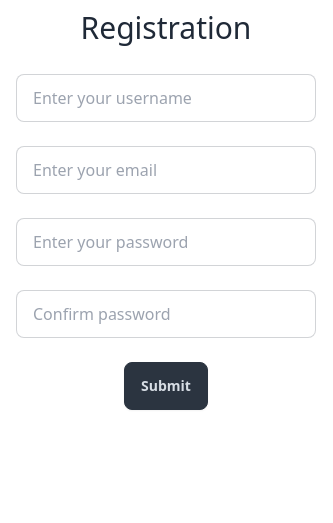
Test: Check if the input value satisfies the registration validation schema › checks if password value is invalid
The image size is (333, 523).
Step 1. Type "Test123" into the password field with placeholder "Enter your password" → (166, 242), box [16,218,316,266]
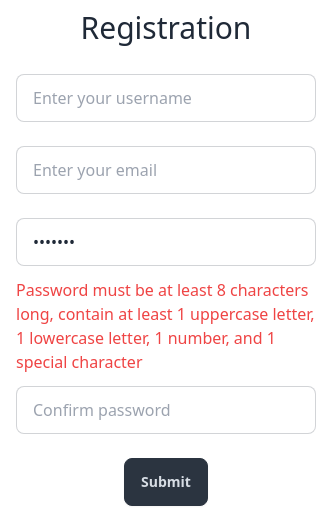
Expected: the text "Password must be at least 8 characters long, contain at least 1 uppercase letter, 1 lowercase letter, 1 number, and 1 special character" is shown, [16,279,315,373]
